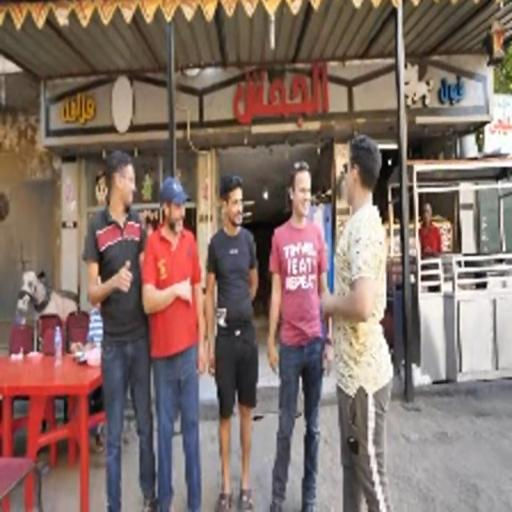nao-violencia: (74, 125, 404, 512)
